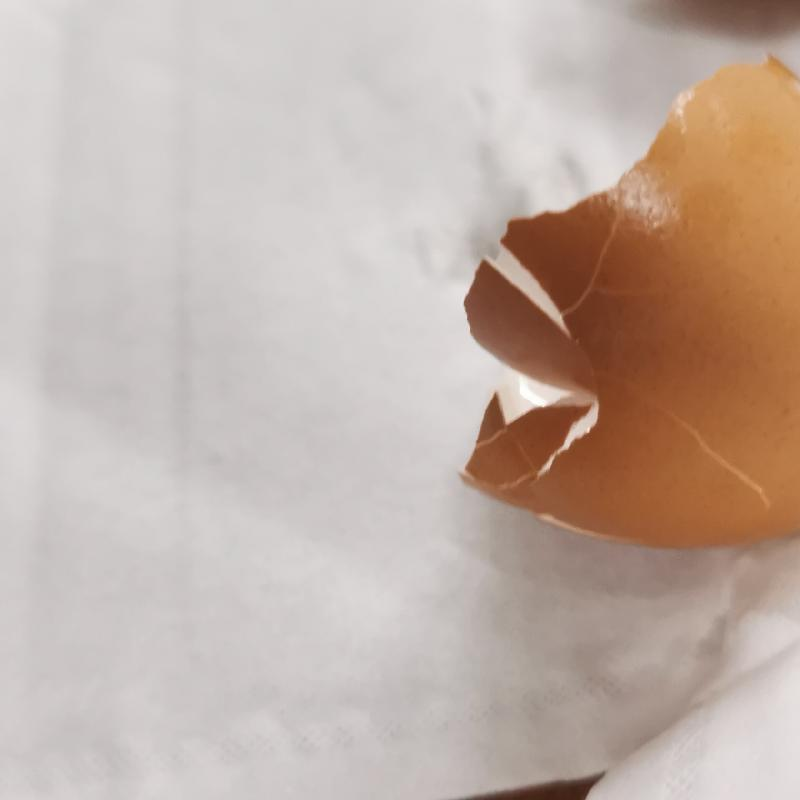eggshell: (459, 52, 800, 552)
